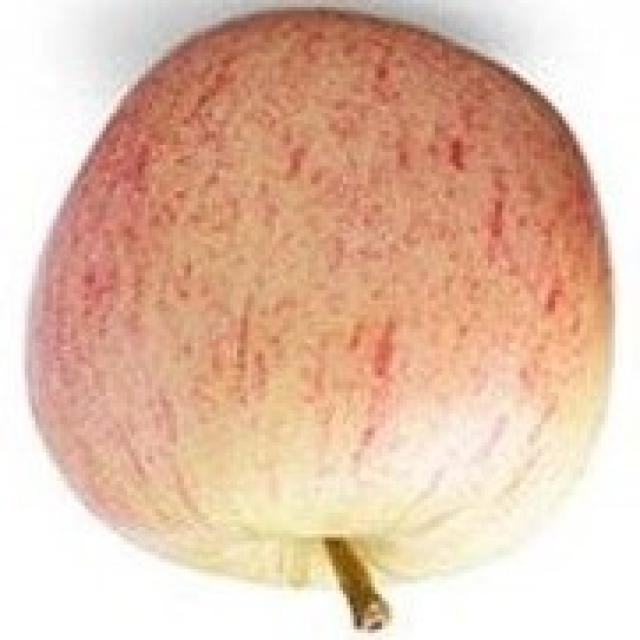75-_ripeness: (30, 10, 613, 598)
